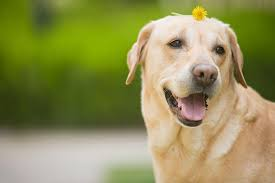dog: (157, 30, 231, 129)
